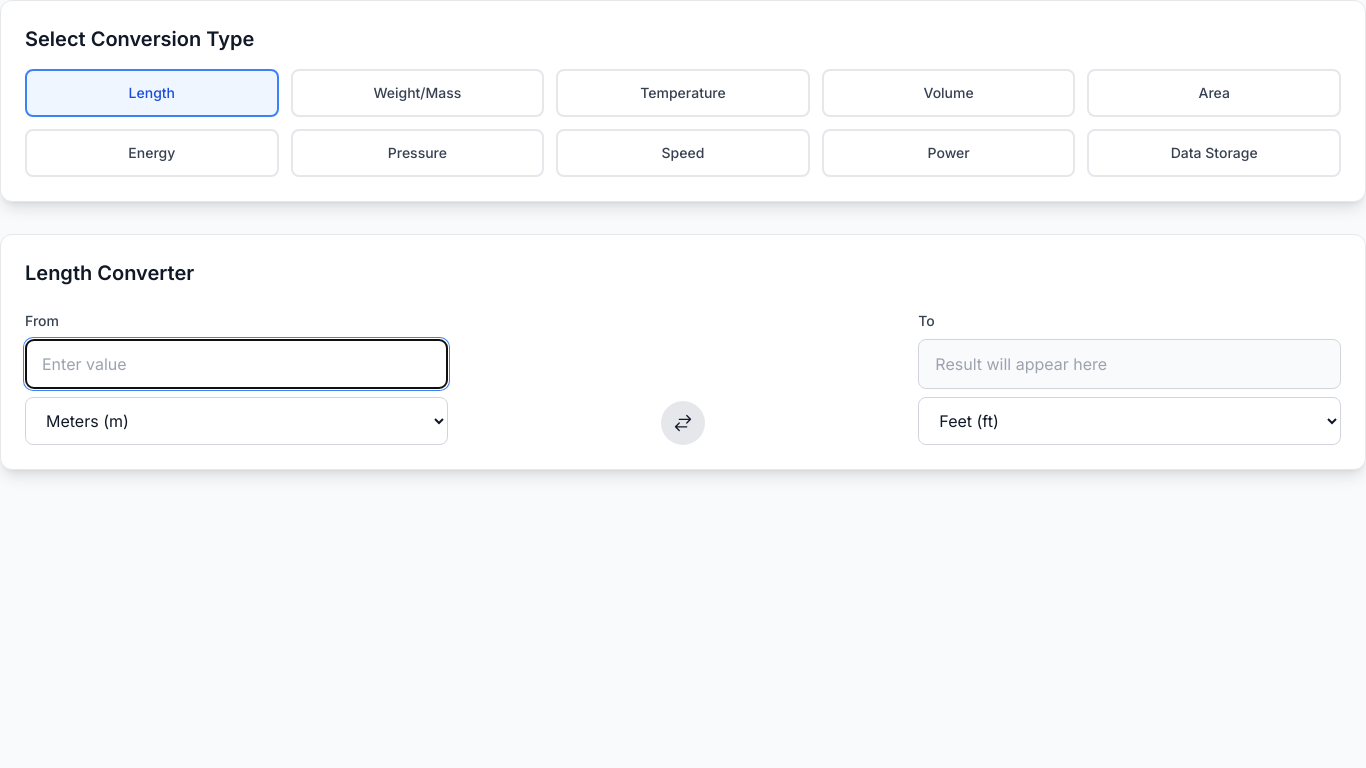
Test: UnitConverter Component › clears result when input is cleared
Type "10" into the field with placeholder "Enter value" at coordinates (236, 364), box [25,339,448,389]
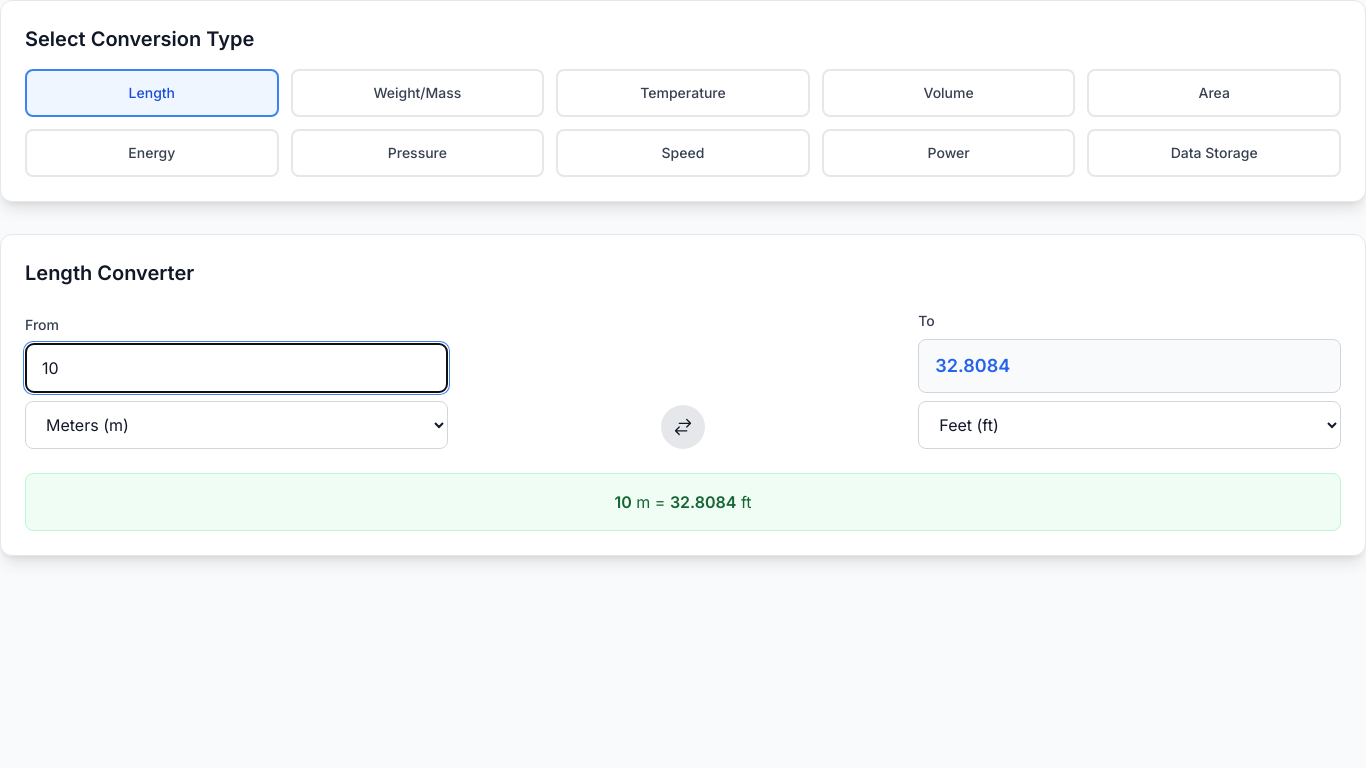
Expected: the 1st text "32.8084" is shown, [935,352,1010,380]
Note: Clear input
Clear the field with placeholder "Enter value" at coordinates (236, 368), box [25,343,448,393]
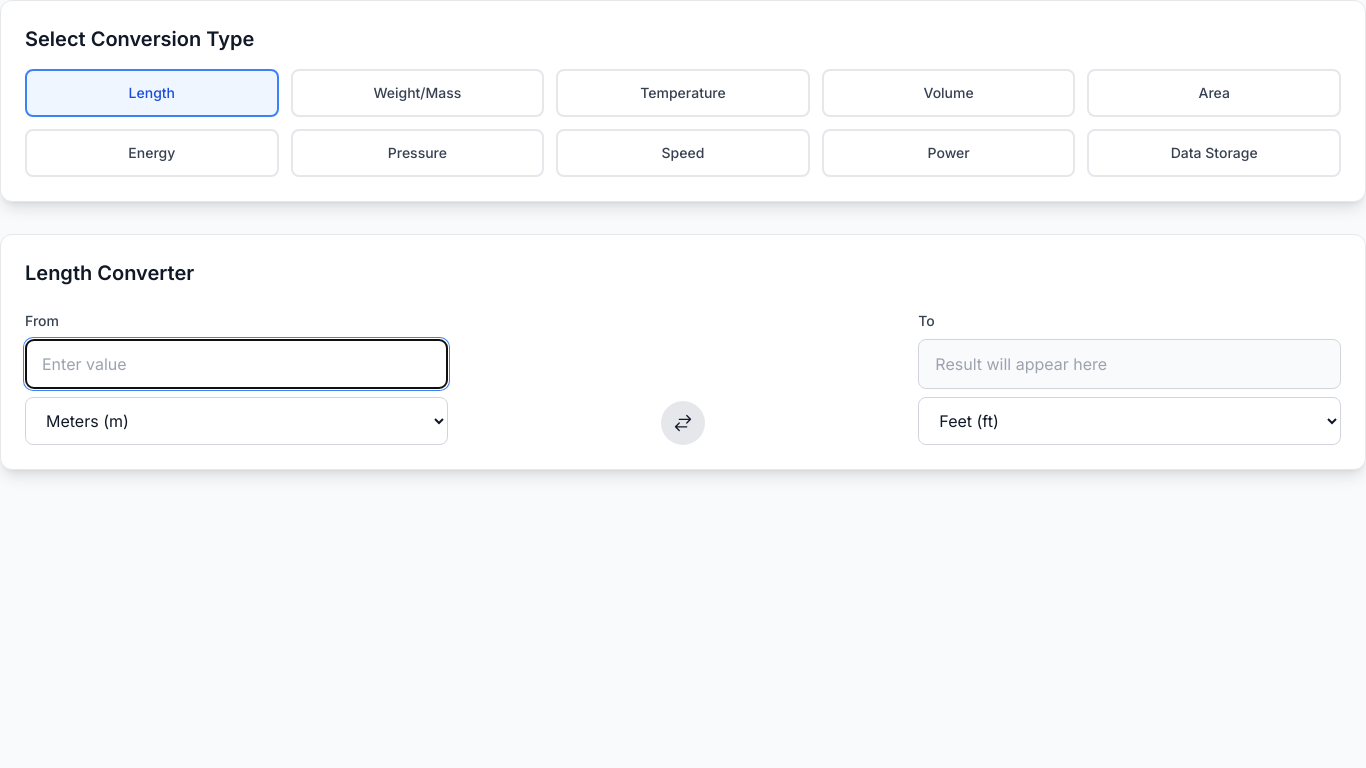
Expected: the text "Result will appear here" is shown, [935,352,1107,376]
